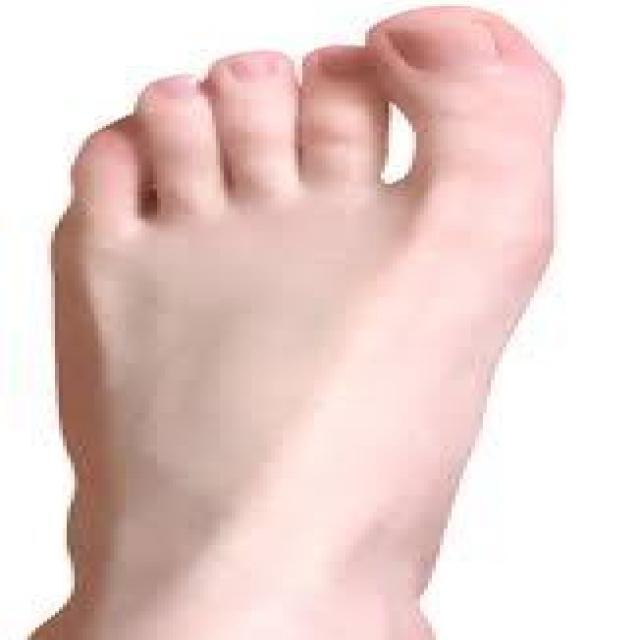No_Shoes: (54, 14, 546, 640)
